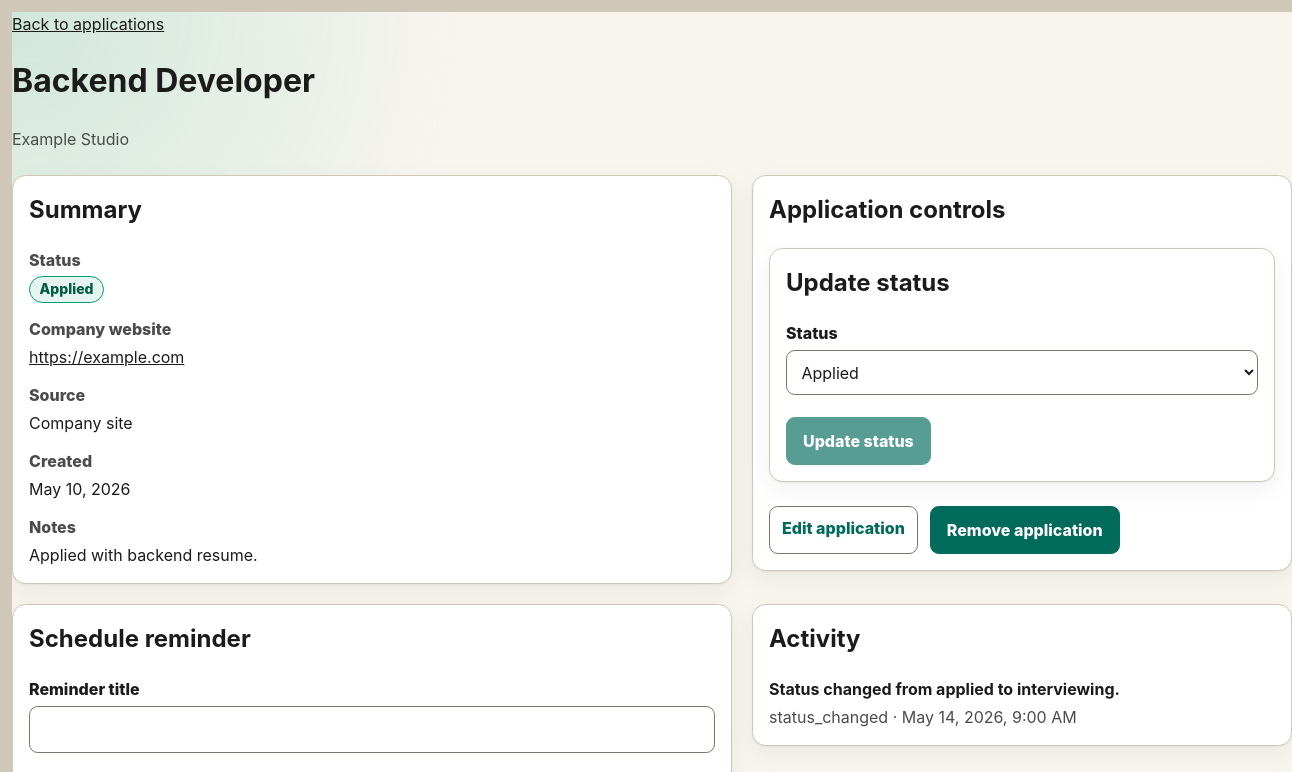
Test case: ApplicationDetailPage › shows an error when status update fails
Expected: the heading "Backend Developer" is shown, [12,61,315,100]
Select "Interviewing" in the dropdown labelled "Status" at (1022, 373), box [786,350,1258,395]
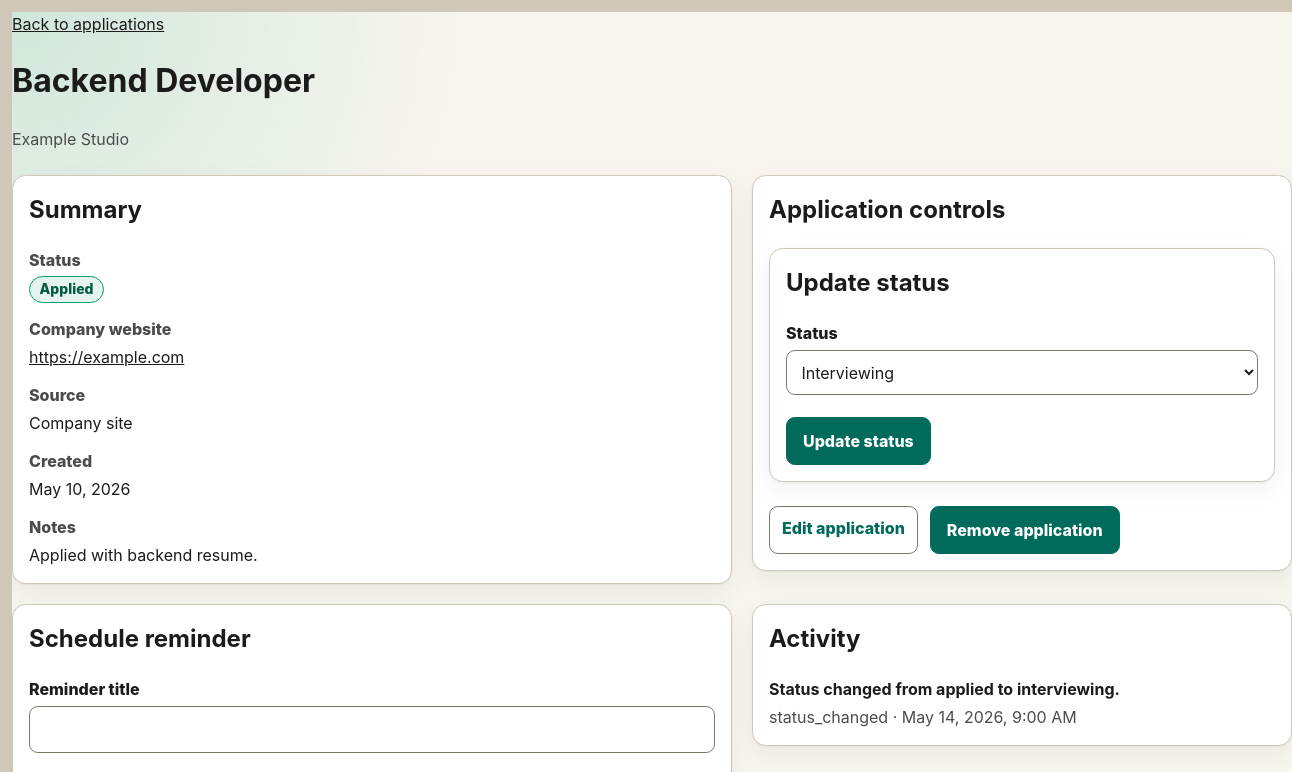
Click the button "Update status" at (858, 441), box [786,417,931,465]
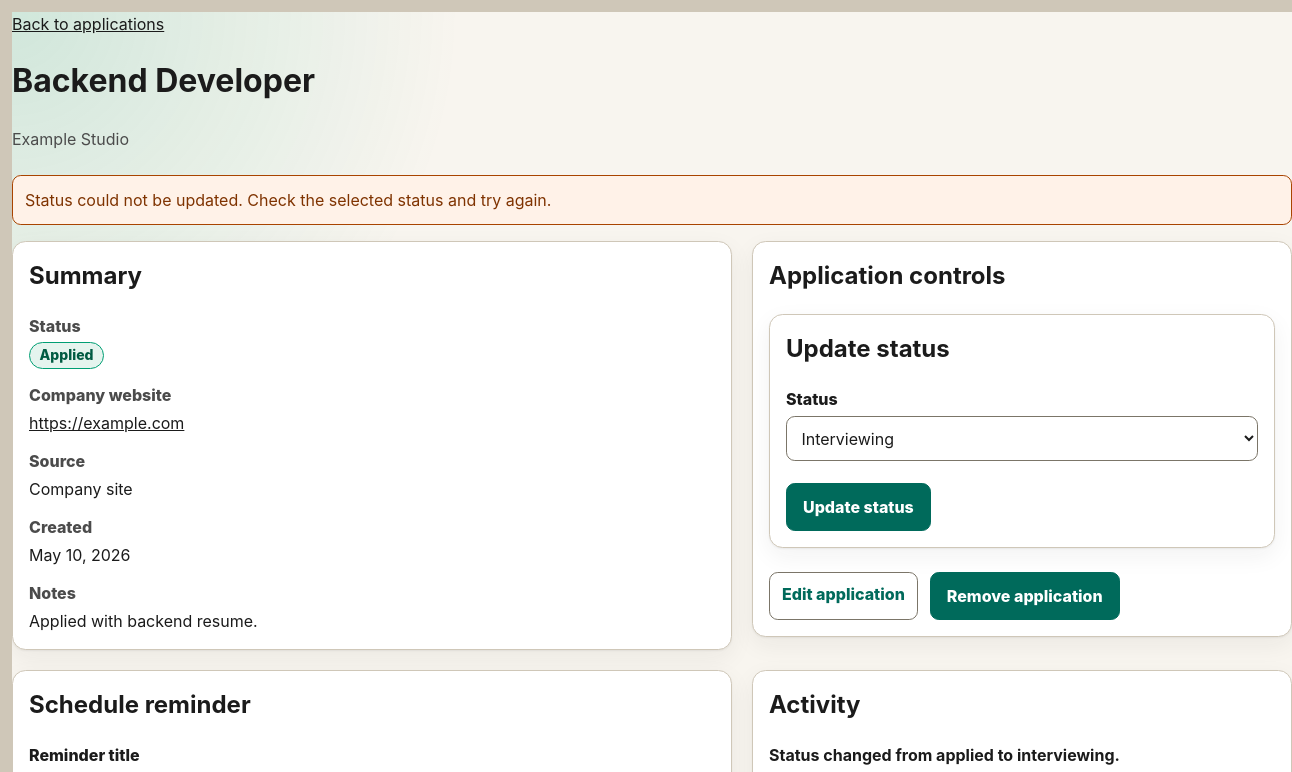
Result: the message reads "Status could not be updated. Check the selected status and try again." at [25,190,551,210]
